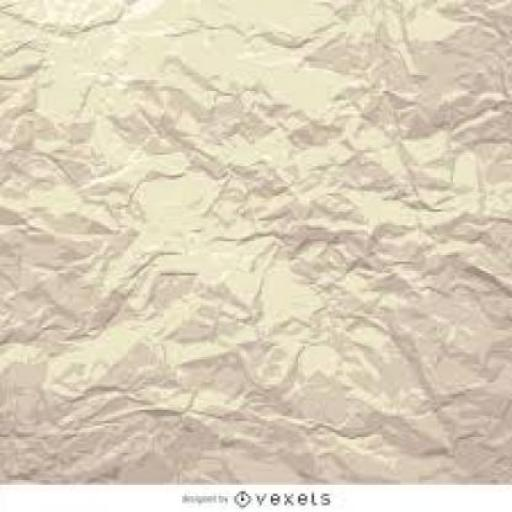paper: (0, 0, 509, 482)
